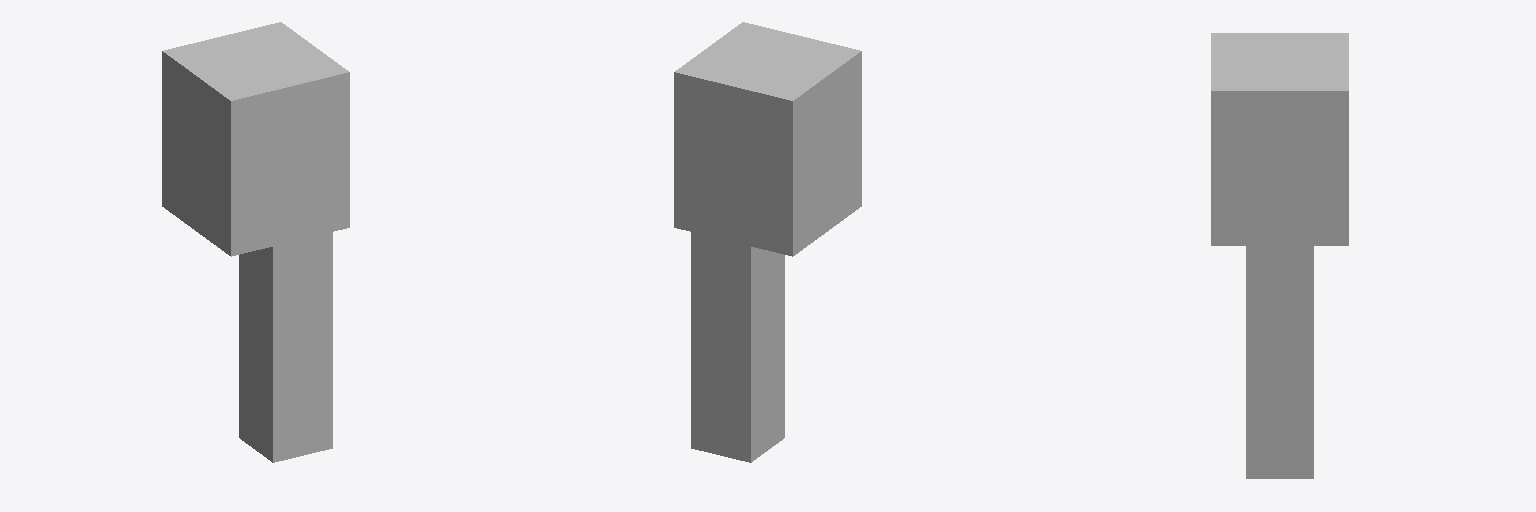
Rendered from skeleton_armored_righthand.obj.
3 renders of one model, left to right at view 1: azimuth 30°, elevation 25°; view 2: azimuth 150°, elevation 25°; view 3: azimuth 270°, elevation 25°, orthographic.
Visible parts, largest first — view 1: Cube.003; view 2: Cube.003; view 3: Cube.003.
Part boxes in pixels (left/top/right/bottom): Cube.003: left=162, top=22, right=349, bottom=462; Cube.003: left=674, top=22, right=861, bottom=462; Cube.003: left=1211, top=33, right=1348, bottom=478.
Bounding box in the file's own units: 0.25 × 0.7812 × 0.25.